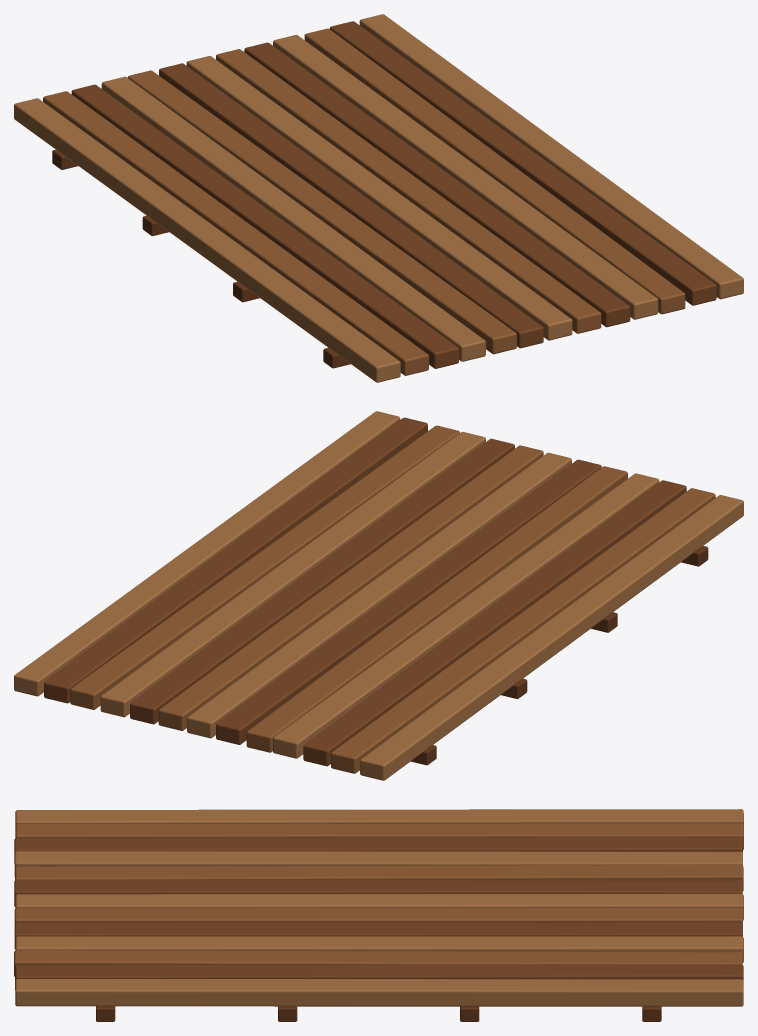
File: SM_Raft.fbx
3 views of the same model, one above another, from view 1: azimuth 30°, elevation 25°; view 2: azimuth 150°, elevation 25°; view 3: azimuth 270°, elevation 25° (orthographic).
Parts seen in each view (by area): view 1: SM_Raft; view 2: SM_Raft; view 3: SM_Raft.
Boxes of the visible parts, x1,y1,x2,y2 form: SM_Raft: (14, 14, 743, 382); SM_Raft: (14, 411, 743, 780); SM_Raft: (14, 809, 743, 1021).
Size of what is drawn, in the model's own units: 7.2 by 0.5595 by 12.03.
